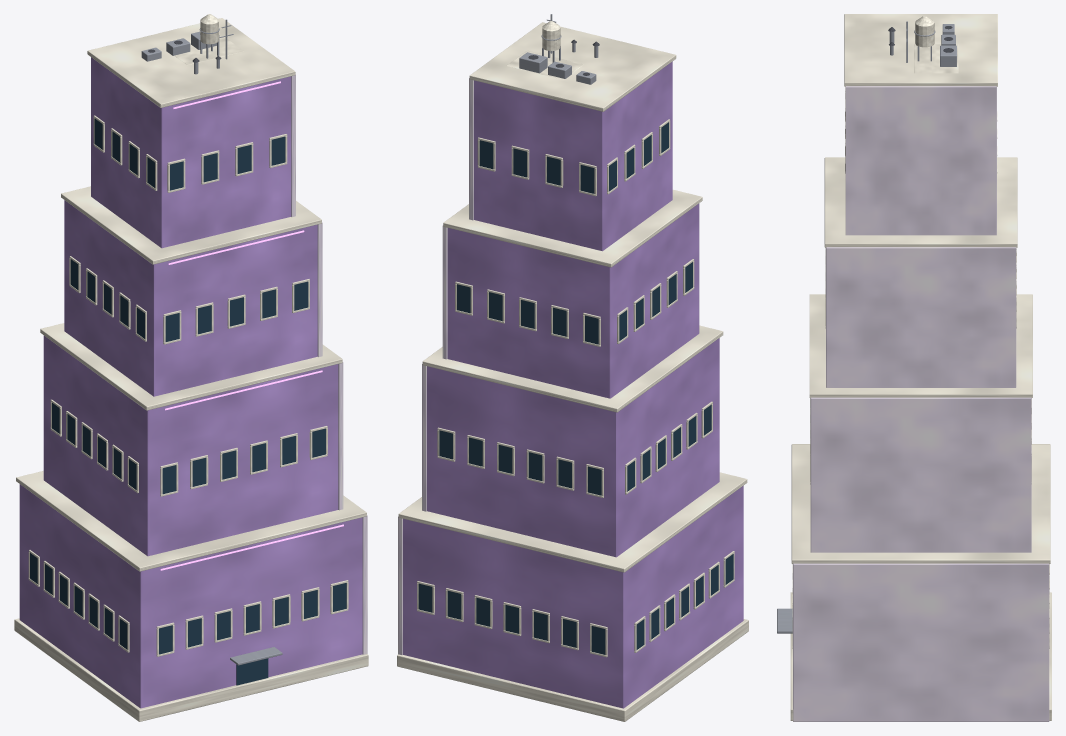
Rendered from bldg_lilac_tower.glb.
3 views of the same model, side by side, from view 1: azimuth 30°, elevation 25°; view 2: azimuth 150°, elevation 25°; view 3: azimuth 270°, elevation 25° (orthographic). The views are drawn at different scales.
Visible parts, largest first — view 1: bldg_lilac_tower_band_0_wall, bldg_lilac_tower_band_1_wall, bldg_lilac_tower_band_2_wall, bldg_lilac_tower_band_3_wall, bldg_lilac_tower_band_3_cornice, bldg_lilac_tower_band_0_cornice, bldg_lilac_tower_plinth, bldg_lilac_tower_band_2_cornice, bldg_lilac_tower_band_1_cornice, bldg_lilac_tower_band_1_pilaster, bldg_lilac_tower_band_0_pilaster, bldg_lilac_tower_band_2_pilaster (+3 smaller); view 2: bldg_lilac_tower_band_0_wall, bldg_lilac_tower_band_1_wall, bldg_lilac_tower_band_2_wall, bldg_lilac_tower_band_3_wall, bldg_lilac_tower_band_3_cornice, bldg_lilac_tower_band_0_cornice, bldg_lilac_tower_plinth, bldg_lilac_tower_band_2_cornice, bldg_lilac_tower_band_1_cornice, bldg_lilac_tower_band_2_pilaster, bldg_lilac_tower_band_1_pilaster, bldg_lilac_tower_band_3_pilaster (+1 smaller); view 3: bldg_lilac_tower_band_0_pilaster, bldg_lilac_tower_band_1_pilaster, bldg_lilac_tower_band_2_pilaster, bldg_lilac_tower_band_3_pilaster, bldg_lilac_tower_band_3_cornice, bldg_lilac_tower_band_0_cornice, bldg_lilac_tower_band_2_cornice, bldg_lilac_tower_band_1_cornice, bldg_lilac_tower_roof_curb, bldg_lilac_tower_plinth.
Part boxes in pixels (x1,y1,x2,y2): bldg_lilac_tower_band_0_wall: (19,484,362,708); bldg_lilac_tower_band_1_wall: (43,335,338,556); bldg_lilac_tower_band_2_wall: (64,200,317,396); bldg_lilac_tower_band_3_wall: (91,57,291,248); bldg_lilac_tower_band_3_cornice: (87,18,295,107); bldg_lilac_tower_band_0_cornice: (16,471,366,571); bldg_lilac_tower_plinth: (14,618,368,721); bldg_lilac_tower_band_2_cornice: (61,186,321,264); bldg_lilac_tower_band_1_cornice: (40,323,342,410); bldg_lilac_tower_band_1_pilaster: (338,361,343,510); bldg_lilac_tower_band_0_pilaster: (362,515,367,654); bldg_lilac_tower_band_2_pilaster: (317,222,322,357); bldg_lilac_tower_band_0_wall: (403,486,743,708); bldg_lilac_tower_band_1_wall: (427,338,719,557); bldg_lilac_tower_band_2_wall: (447,203,699,398); bldg_lilac_tower_band_3_wall: (474,61,672,251); bldg_lilac_tower_band_3_cornice: (469,22,676,111); bldg_lilac_tower_band_0_cornice: (398,472,747,572); bldg_lilac_tower_plinth: (397,619,748,721); bldg_lilac_tower_band_2_cornice: (443,189,702,267); bldg_lilac_tower_band_1_cornice: (422,325,723,412); bldg_lilac_tower_band_2_pilaster: (442,225,447,359); bldg_lilac_tower_band_1_pilaster: (422,364,426,511); bldg_lilac_tower_band_3_pilaster: (469,78,473,220); bldg_lilac_tower_band_0_pilaster: (793,563,1049,721); bldg_lilac_tower_band_1_pilaster: (810,397,1031,552); bldg_lilac_tower_band_2_pilaster: (826,247,1016,387); bldg_lilac_tower_band_3_pilaster: (845,86,996,235); bldg_lilac_tower_band_3_cornice: (844,14,997,86); bldg_lilac_tower_band_0_cornice: (791,444,1050,563); bldg_lilac_tower_band_2_cornice: (824,157,1017,247); bldg_lilac_tower_band_1_cornice: (809,294,1032,397); bldg_lilac_tower_roof_curb: (914,44,958,73); bldg_lilac_tower_plinth: (790,592,1051,720).
Size of the model in its own units: 17.51 by 45.77 by 17.35.
7 materials, 7 textured.
